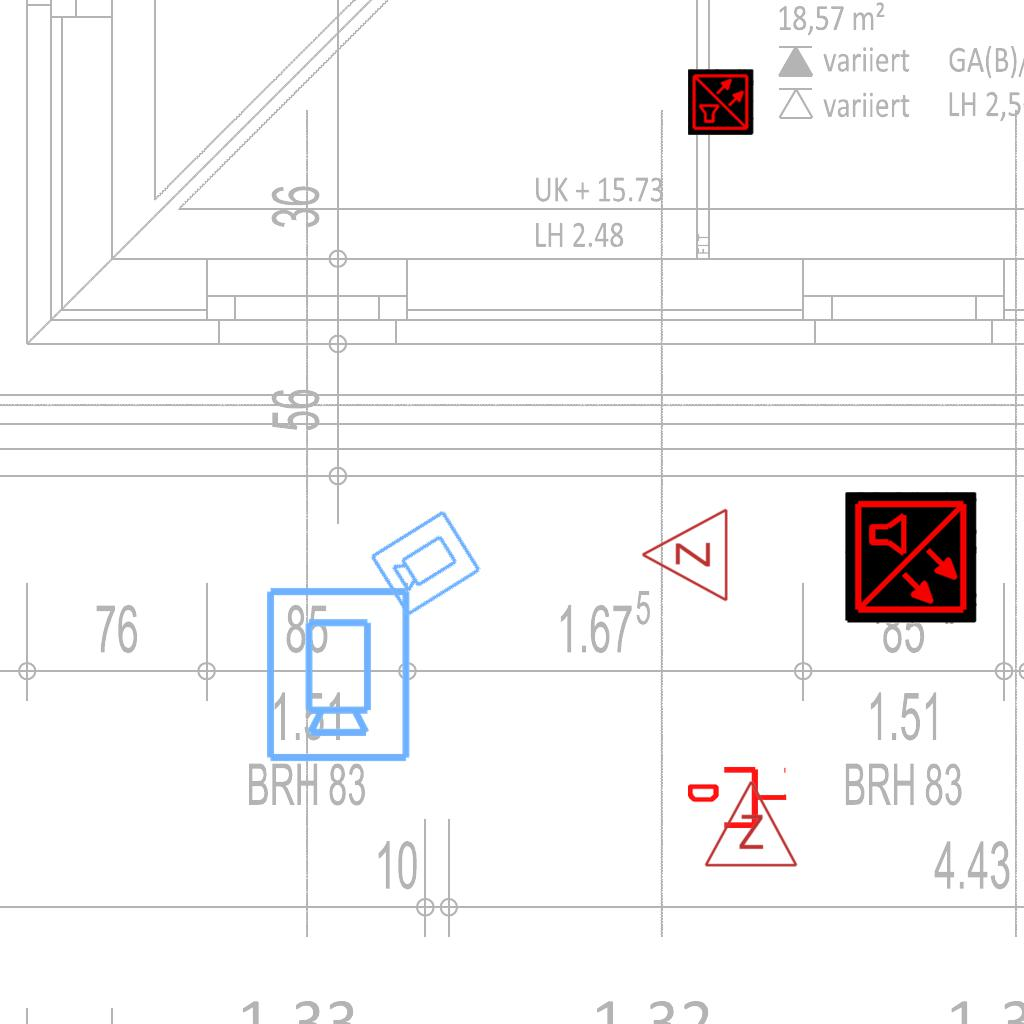Datenanschluss_einfach: (688, 763, 788, 832)
KFO_Kamera_mit_Festobjektiv: (260, 583, 414, 765), (366, 505, 485, 620)
OKW_Multisensormelder_(Kombination_optischer_Rauch-Kahlenmonoxid_Waerme-Melder): (845, 492, 977, 624), (688, 69, 754, 135)
Zimmersignalleuchte: (635, 507, 735, 605), (701, 774, 799, 874)
